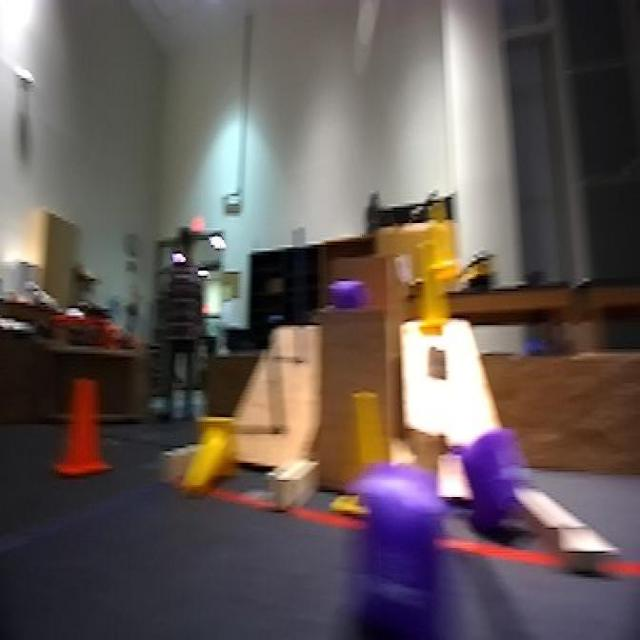frc_cone: (333, 385, 386, 507), (172, 415, 238, 494), (419, 233, 452, 342), (425, 201, 460, 282)
frc_cube: (363, 478, 456, 618), (462, 422, 530, 529), (316, 274, 371, 315)
